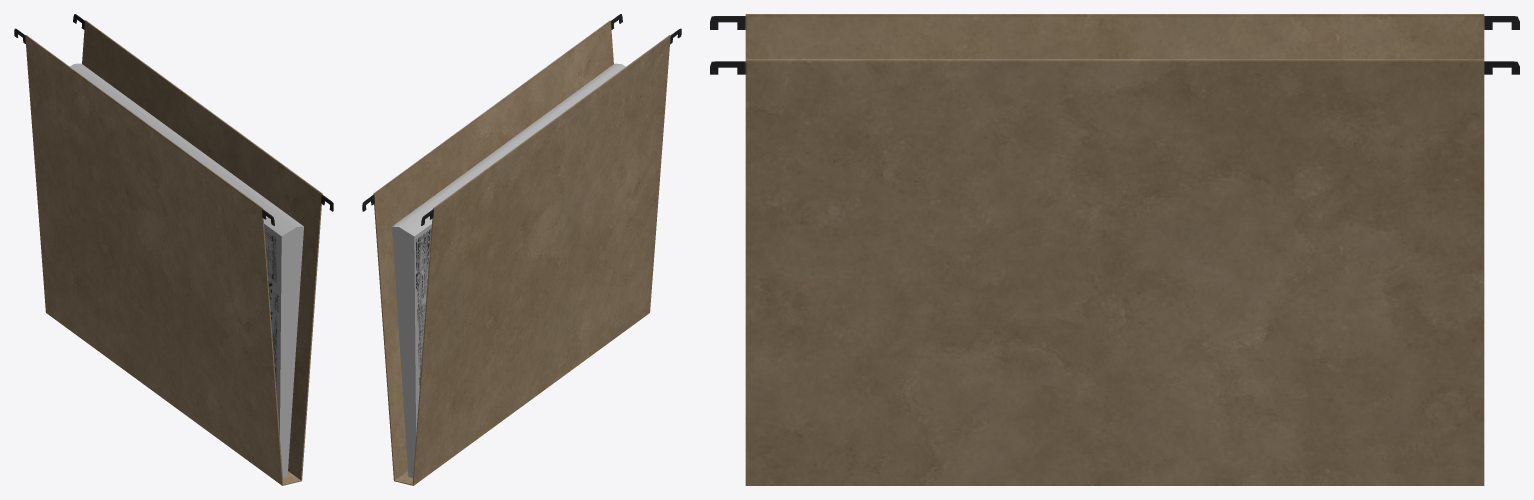
The model's file is Folder.fbx.
3 renders of one model, left to right at view 1: azimuth 30°, elevation 25°; view 2: azimuth 150°, elevation 25°; view 3: azimuth 270°, elevation 25°, orthographic. The views are drawn at different scales.
Parts seen in each view (by area): view 1: document_holder, paper2; view 2: document_holder, paper2; view 3: document_holder.
Boxes of the visible parts, box(x1,y1,x2,y2) form: document_holder: box(14, 14, 333, 485); paper2: box(70, 63, 303, 477); document_holder: box(362, 14, 681, 485); paper2: box(392, 63, 625, 477); document_holder: box(710, 14, 1519, 485).
Bounding box in the file's own units: 5.7 × 25.35 × 42.16.
